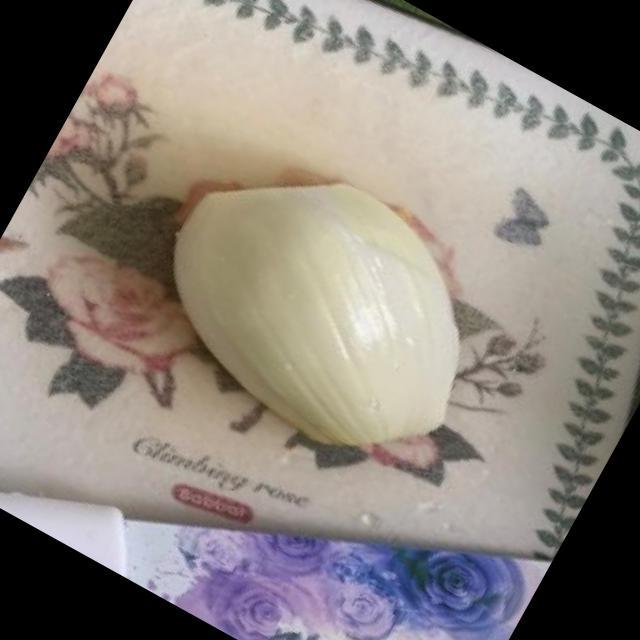Onion: (175, 183, 460, 446)
